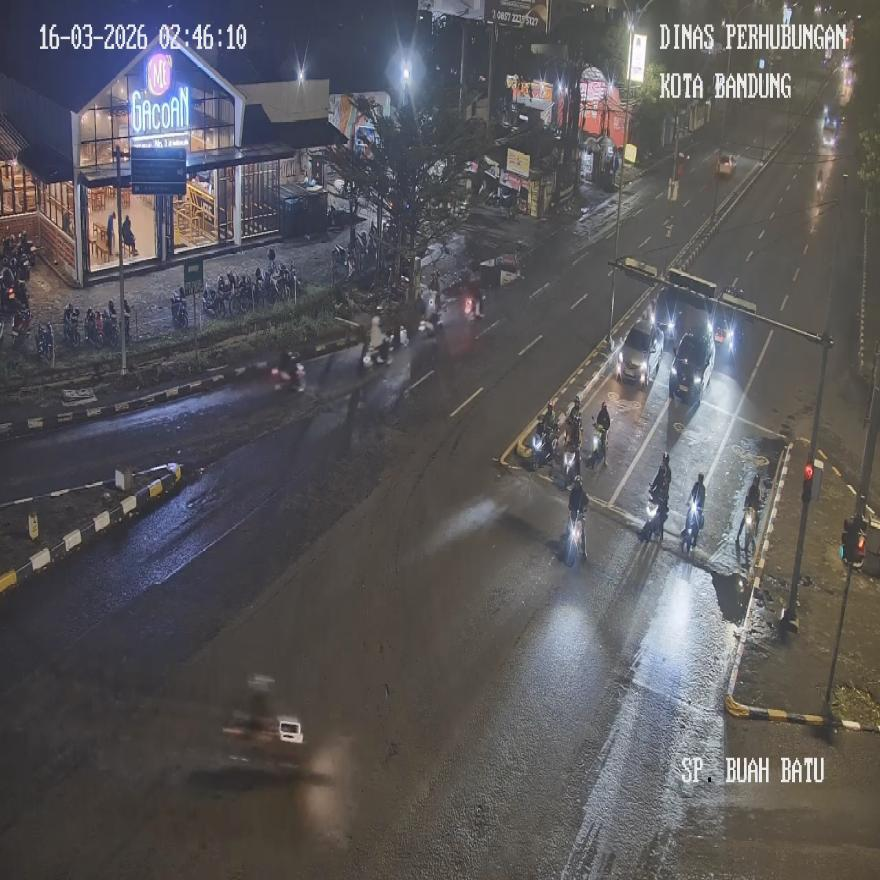Truk: (269, 352, 304, 392), (643, 482, 667, 540), (530, 421, 556, 470), (563, 419, 582, 485), (681, 498, 702, 552), (565, 508, 585, 564), (737, 504, 758, 556), (588, 419, 608, 468), (11, 304, 32, 348), (61, 306, 82, 347), (332, 243, 354, 281), (34, 321, 54, 362), (203, 282, 223, 319), (85, 308, 103, 348), (170, 290, 188, 328), (101, 308, 118, 348)
